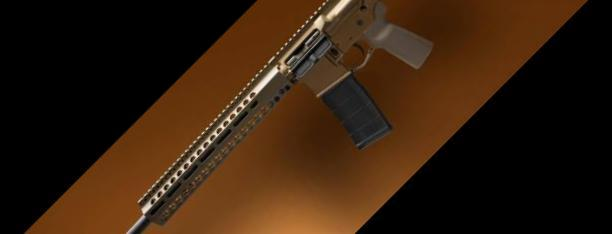larga: (127, 0, 435, 234)
